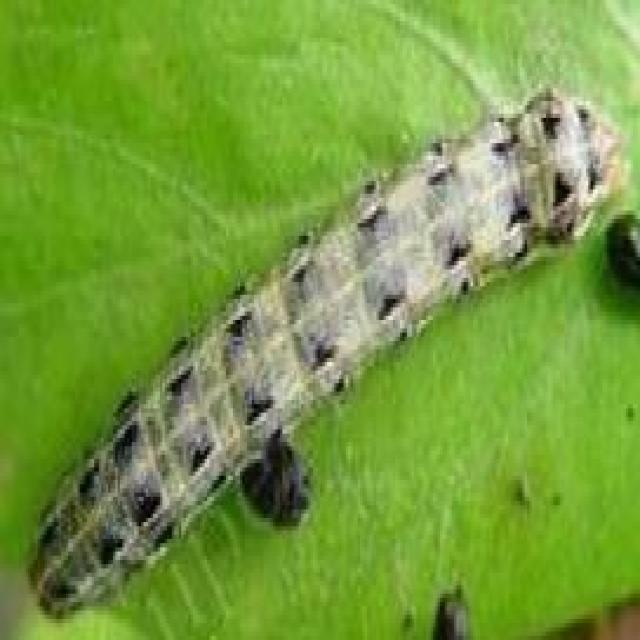armyworm: (26, 68, 635, 627)
